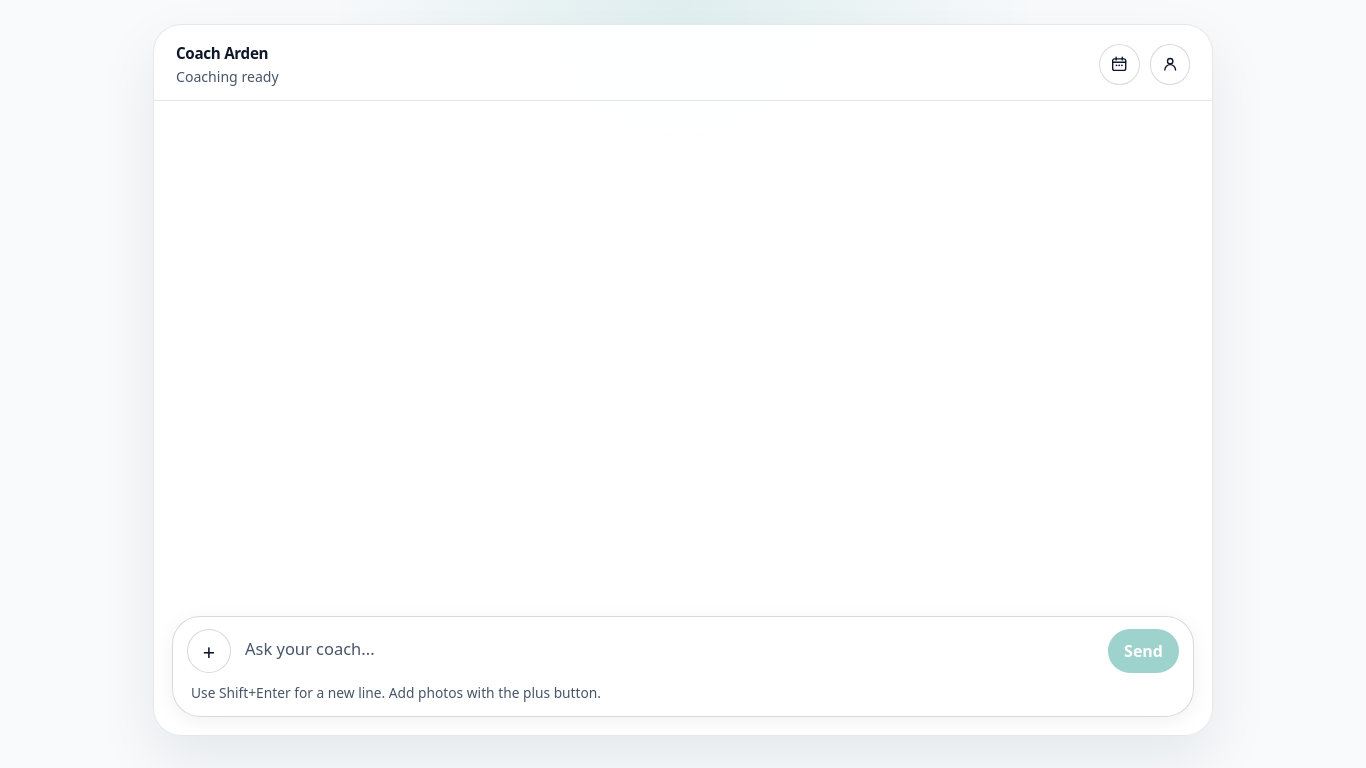
CoachChat message sending › restores the composer draft when the send fails
The width and height of the screenshot is (1366, 768).
Type "I ran easy today." into the text box with placeholder "Ask your coach...".
click(670, 651); type("I ran easy today.")  # box x1=243 y1=629 x2=1096 y2=673
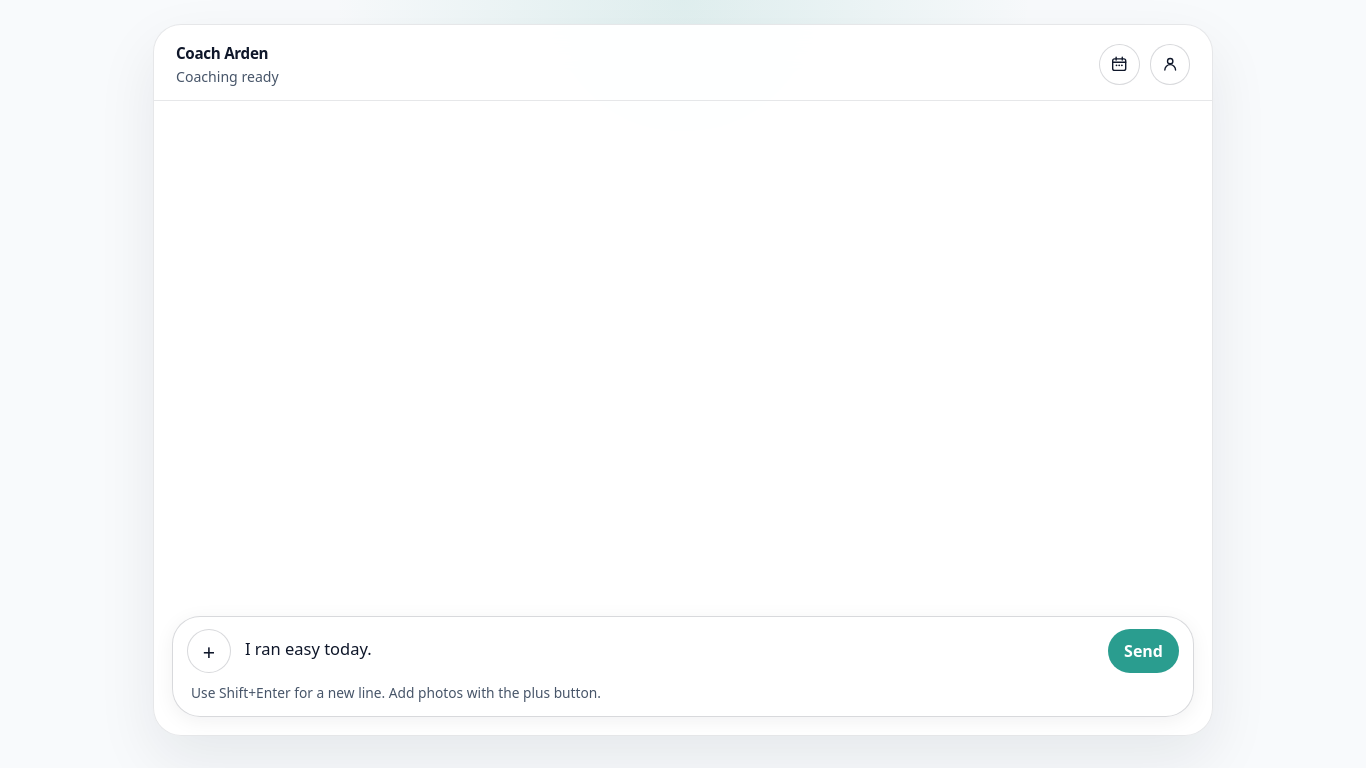
Click the button "Send".
click(1144, 651)  # box x1=1108 y1=629 x2=1179 y2=673
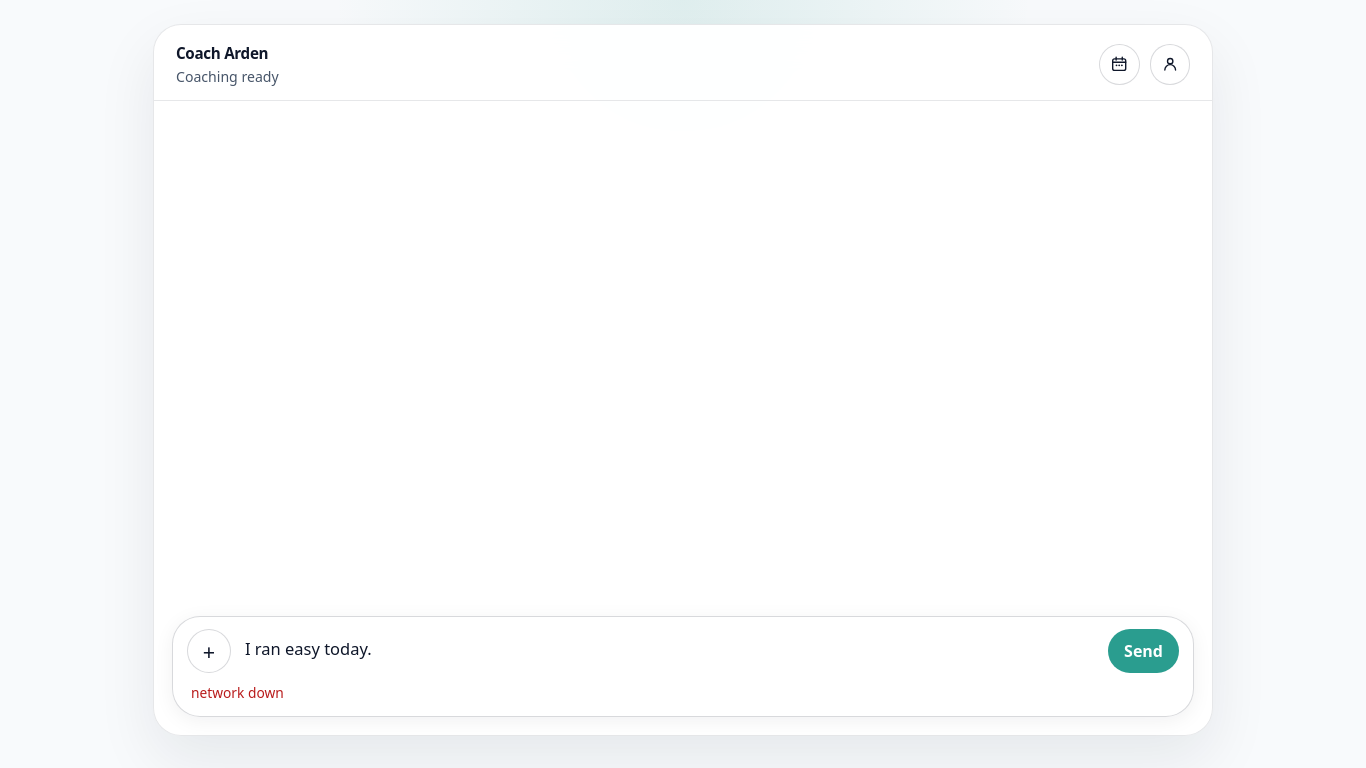
expect the text "network down" is shown: met, box x1=191 y1=683 x2=284 y2=702
